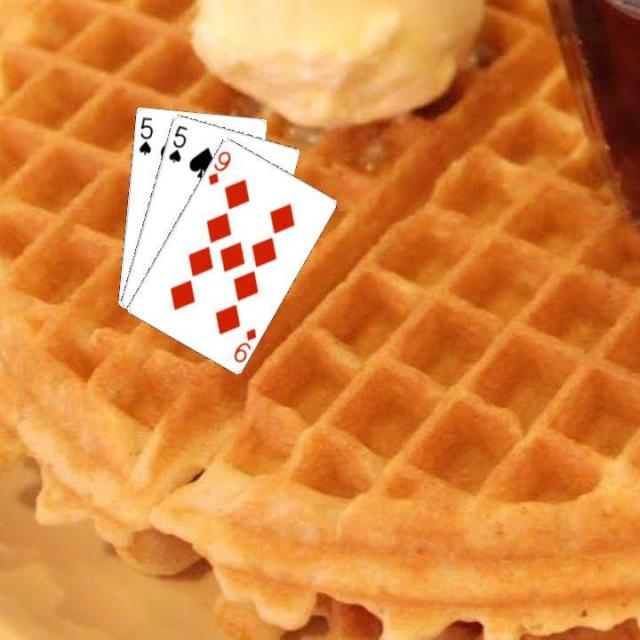5S: (164, 121, 188, 163), (134, 113, 155, 155)
9D: (203, 146, 233, 186), (229, 324, 259, 364)
